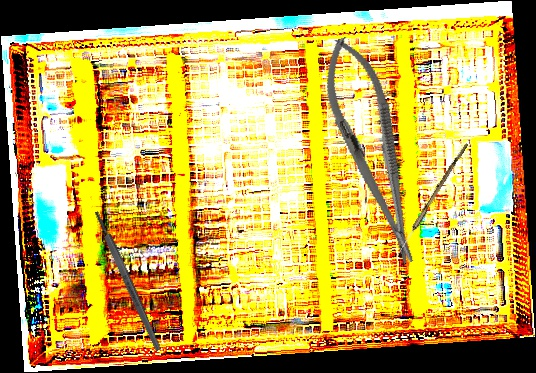Needle Holder: (311, 30, 435, 272)
Scalpel Handle: (92, 209, 163, 353)
Surgical Spoon: (393, 141, 469, 261)
